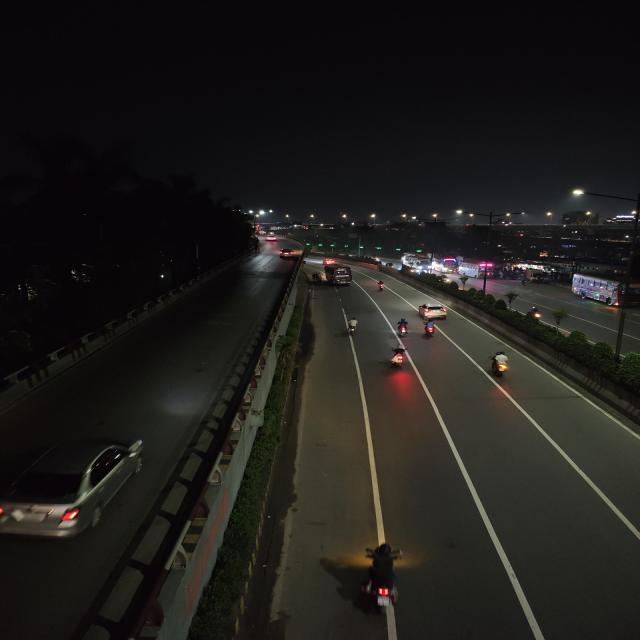bus: (573, 271, 639, 309), (460, 259, 493, 279), (401, 253, 432, 274), (331, 266, 353, 286), (435, 258, 458, 274)
car: (3, 431, 150, 544), (417, 300, 450, 320), (278, 248, 298, 259), (322, 257, 337, 267), (264, 234, 278, 242)
motorcycle: (484, 350, 519, 384), (383, 345, 411, 371), (418, 319, 441, 341), (394, 317, 412, 339), (526, 304, 544, 322), (346, 316, 361, 336), (375, 279, 388, 293)
